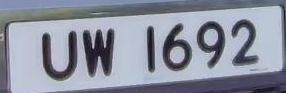1: (139, 20, 163, 80)
2: (226, 12, 268, 70)
6: (156, 17, 197, 75)
9: (193, 14, 230, 72)
U: (35, 26, 82, 86)
W: (77, 23, 122, 86)
